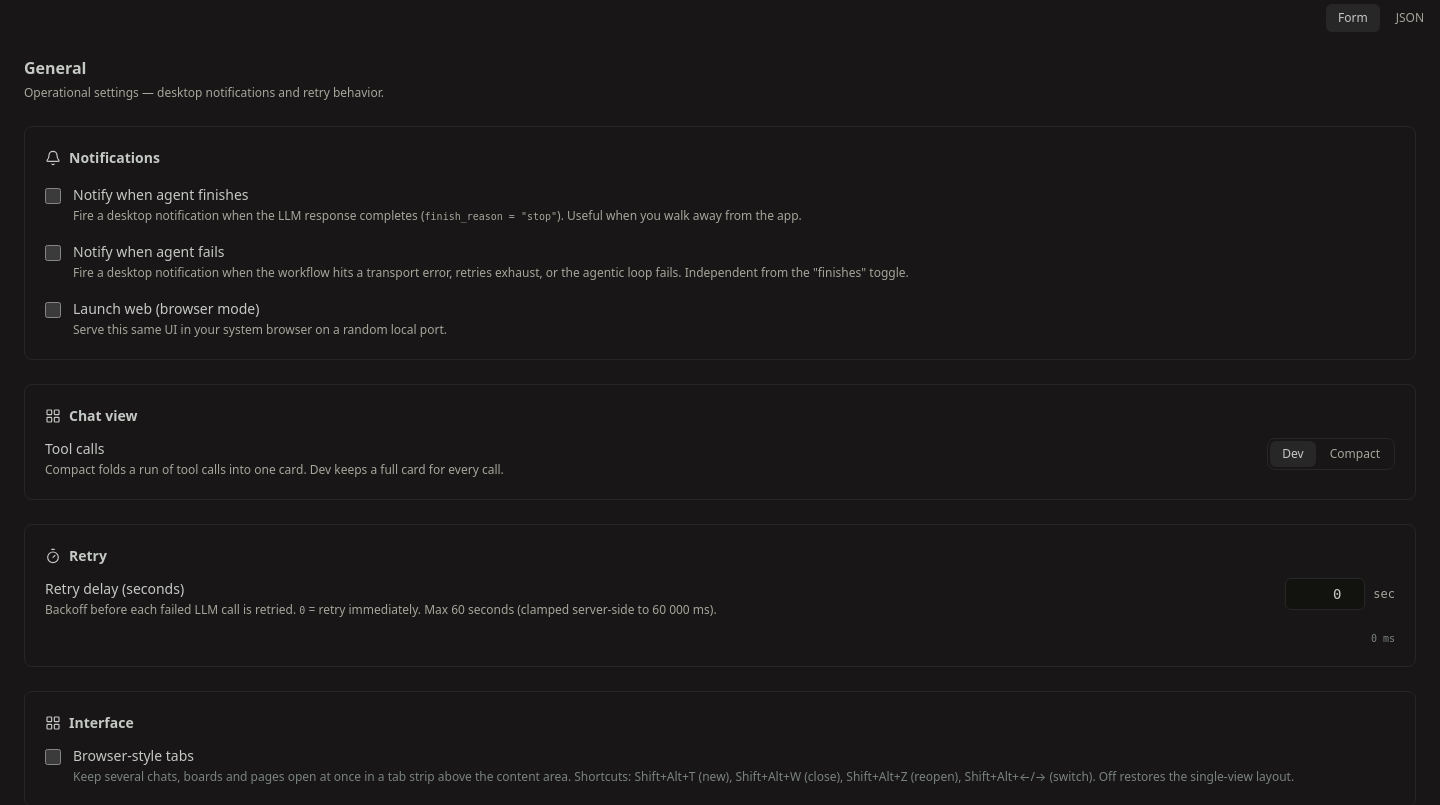
Test: PabrikConfigEditor (orchestrator) › toggling notify_on_error in the General tab reaches the server on its own
// Toggle notify_on_error ON — no button, no confirmation step.
Click the checkbox with test id "toggle-notify-on-error": (53,253) x1=45 y1=245 x2=61 y2=261
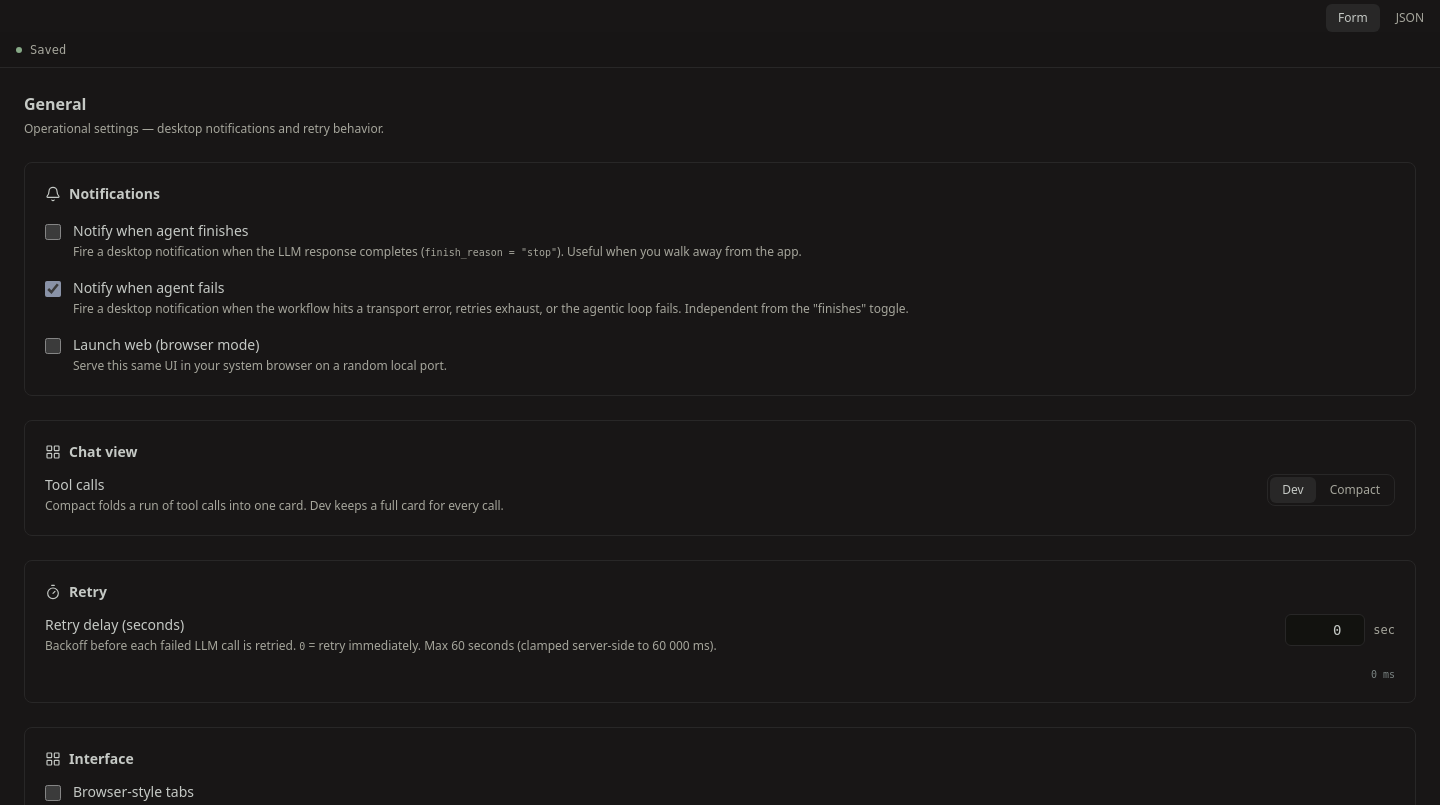
Expected: the message "Saved" is shown, x1=0 y1=32 x2=1439 y2=68
Expected: the text with test id "save-status-text" reads "Saved", x1=30 y1=42 x2=66 y2=56
